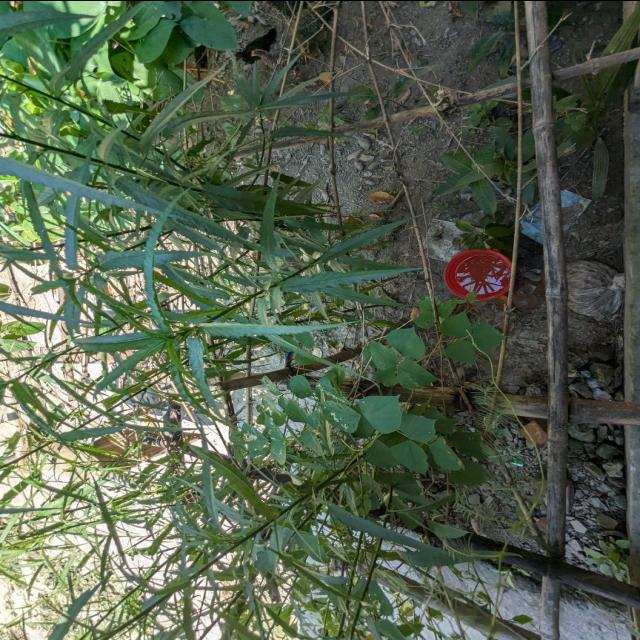Breeding Place: (488, 0, 640, 640), (428, 235, 522, 316)
